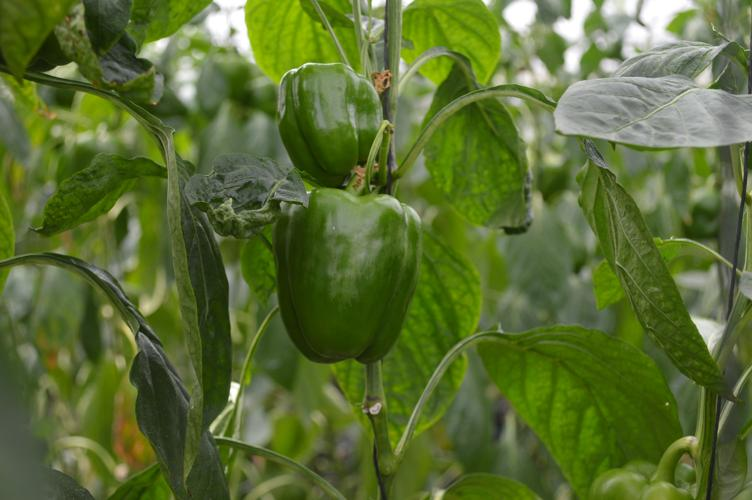BellPepper: (274, 186, 421, 360), (276, 63, 382, 184)
